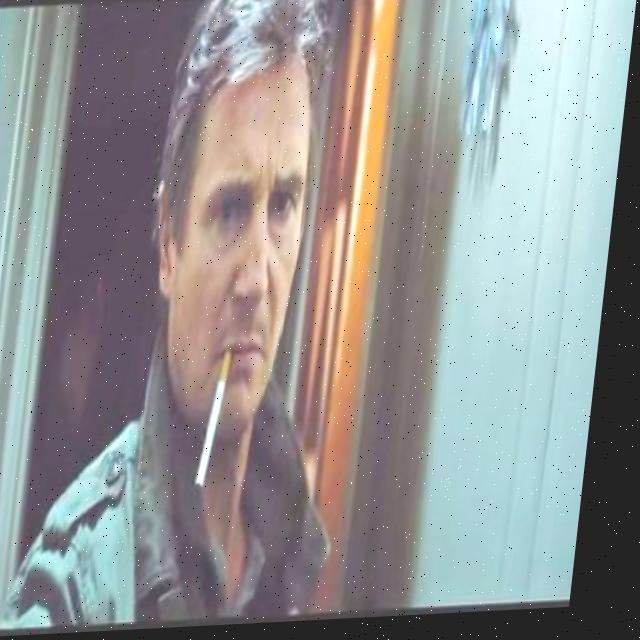cigarette: (202, 348, 242, 496)
